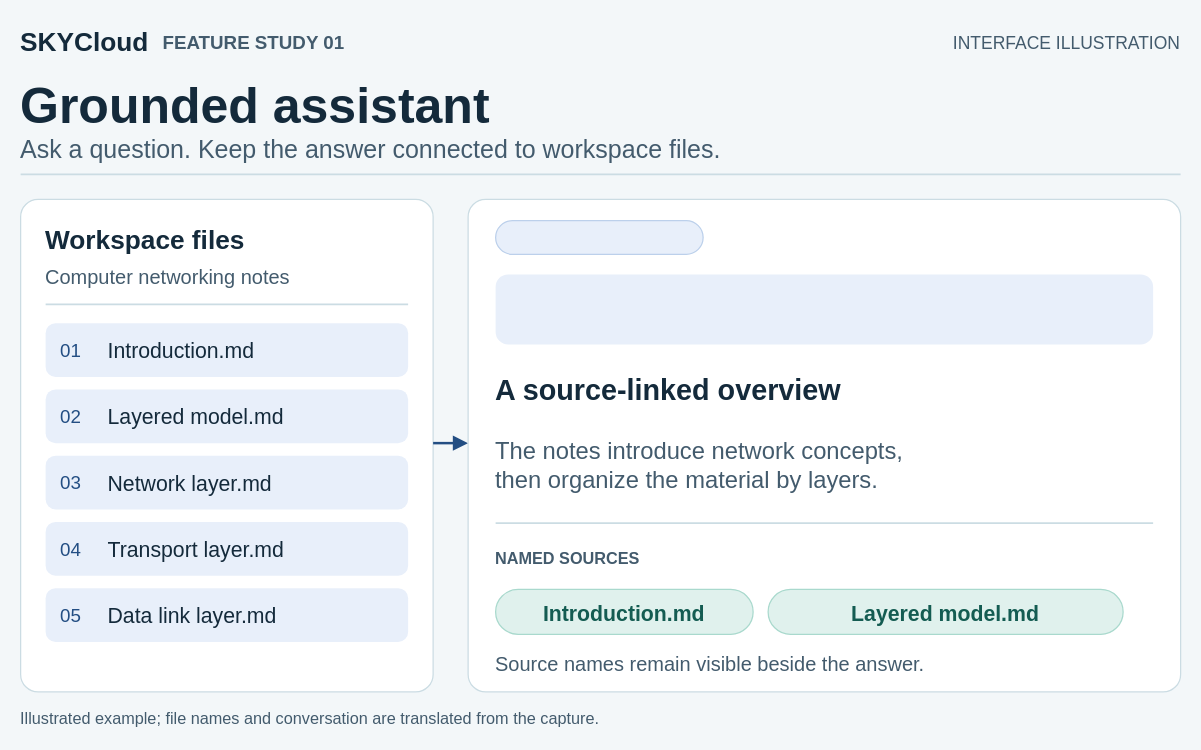
Image size: 1201x750. Some labels were removed from this diagram. Each missing label, with the centre of its shape:
"Summarize my networking notes." goes at [823,309].
"TRANSLATED EXAMPLE" goes at [598,236].
